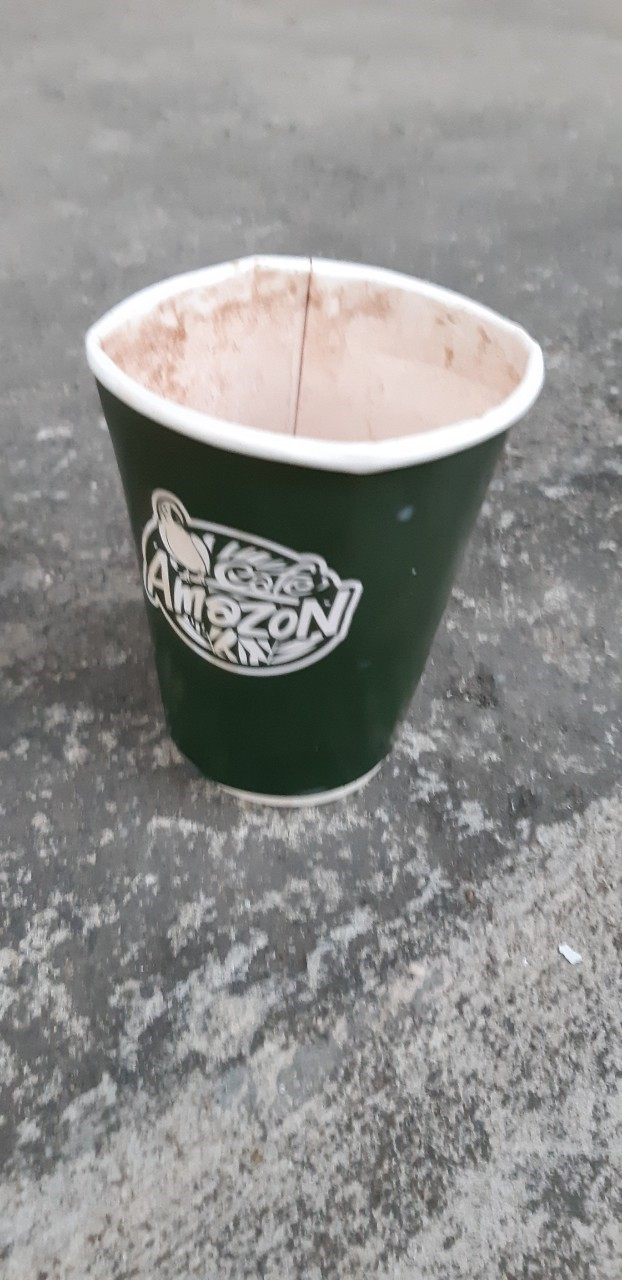PaperCup: (84, 253, 551, 800)
